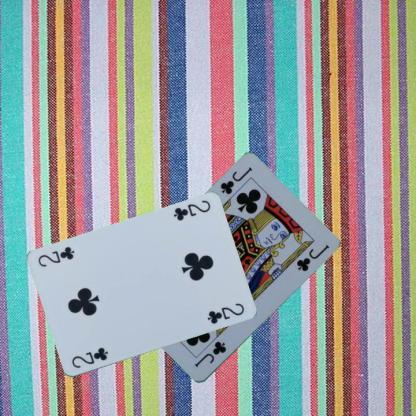2c: (170, 198, 212, 222), (69, 345, 109, 370)
Jc: (217, 164, 254, 197), (192, 339, 228, 369)
